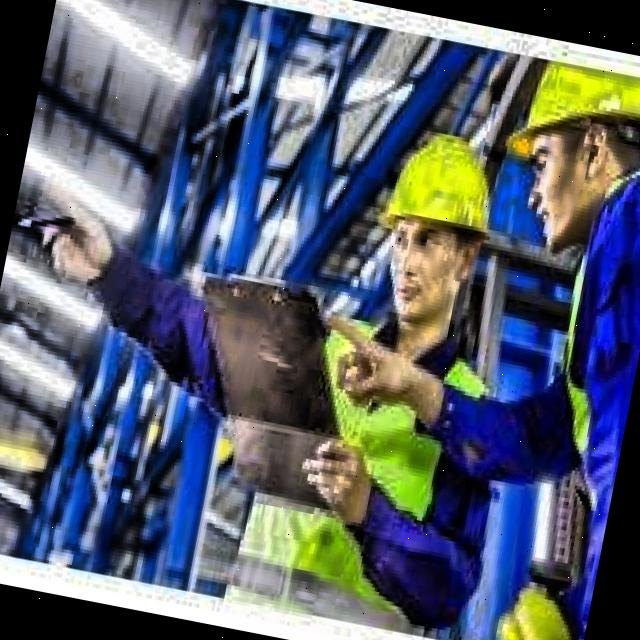helmet: (354, 110, 510, 338), (491, 53, 640, 271)
